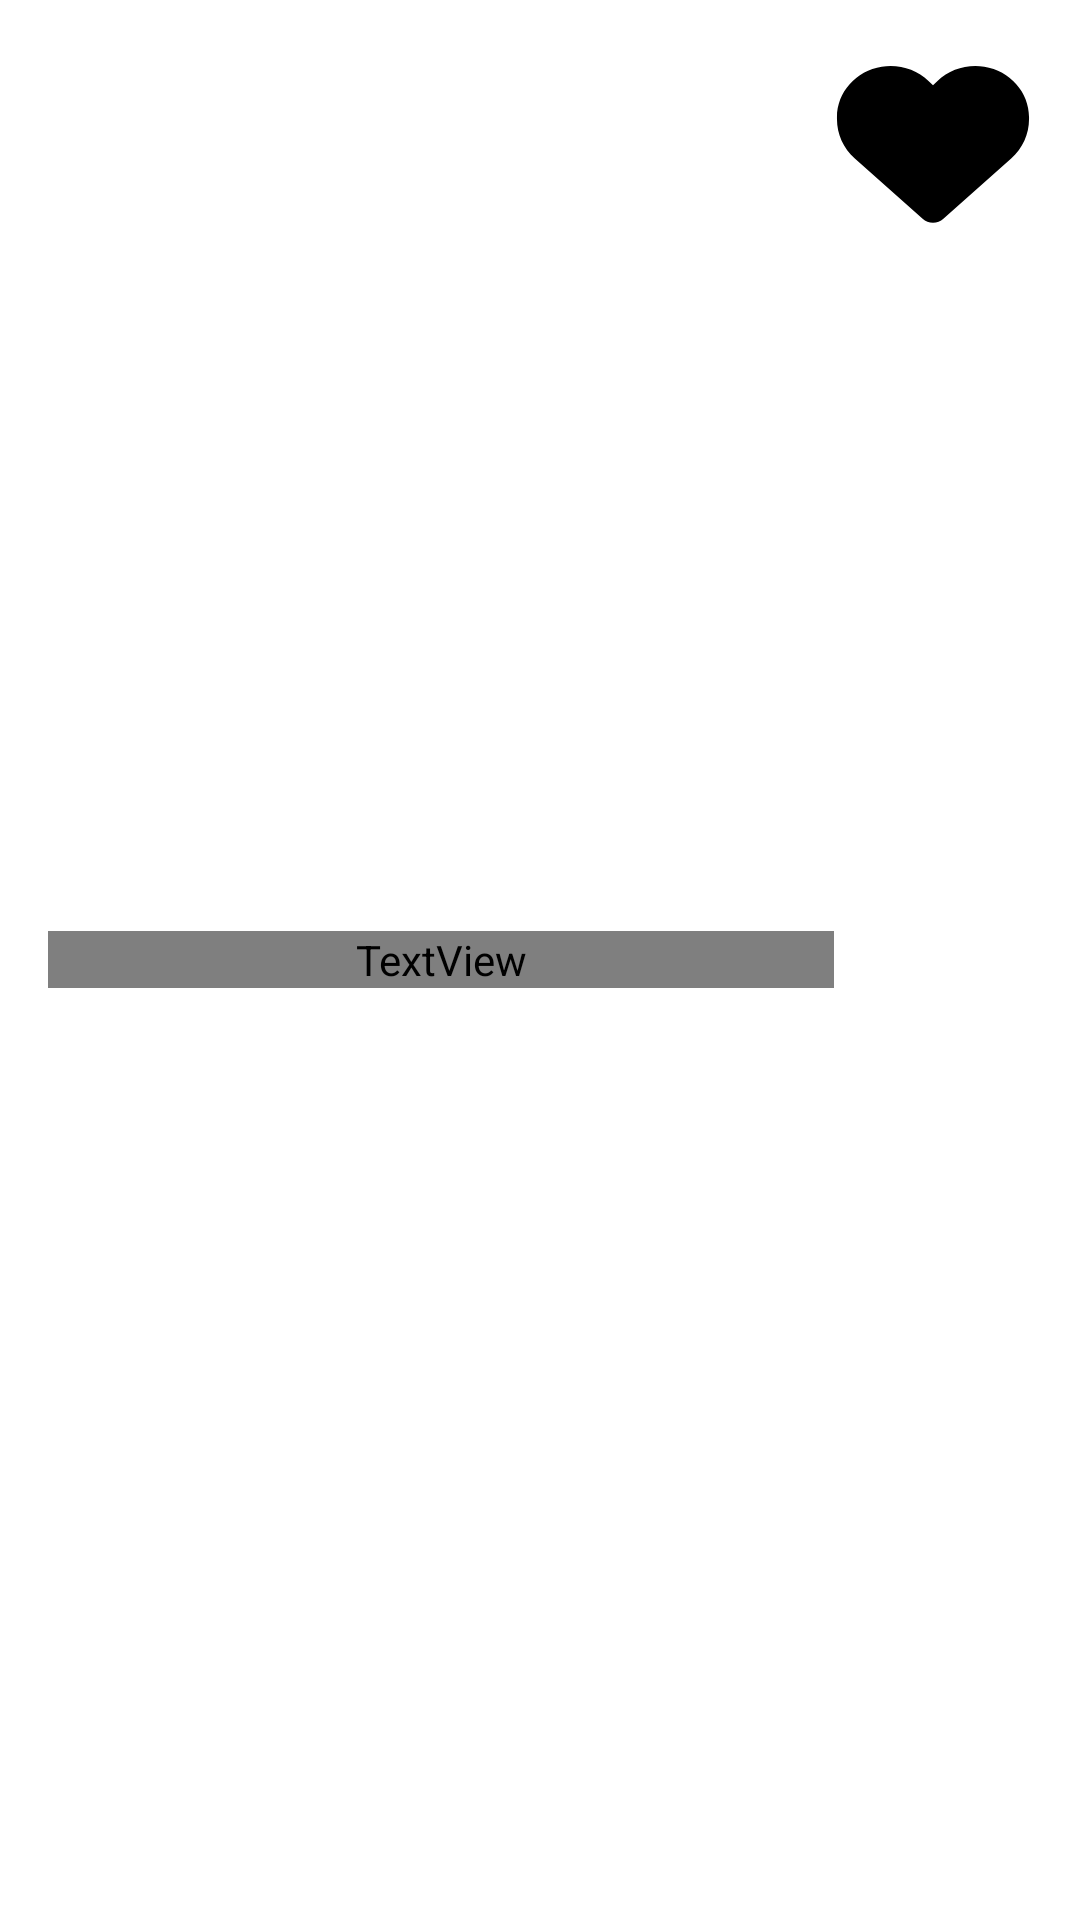

Icon bounding boxes for this 1080 × 1920 phone screenshot, format {"left": x1, "top": y1, "right": x2, "bottom": y2}:
heart: {"left": 837, "top": 66, "right": 1029, "bottom": 223}
